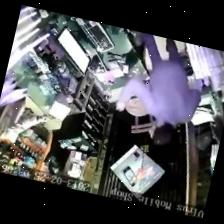person: (115, 33, 199, 144), (0, 97, 47, 138), (43, 130, 69, 175)
